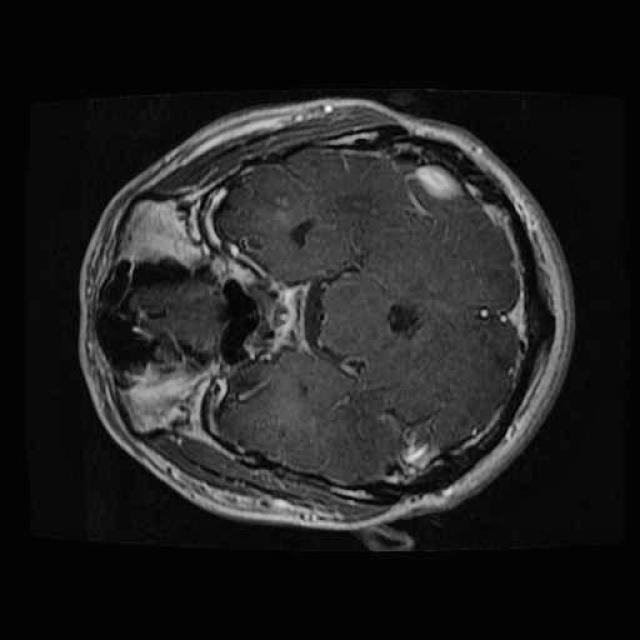Non-Tumor: (282, 208, 326, 253)
